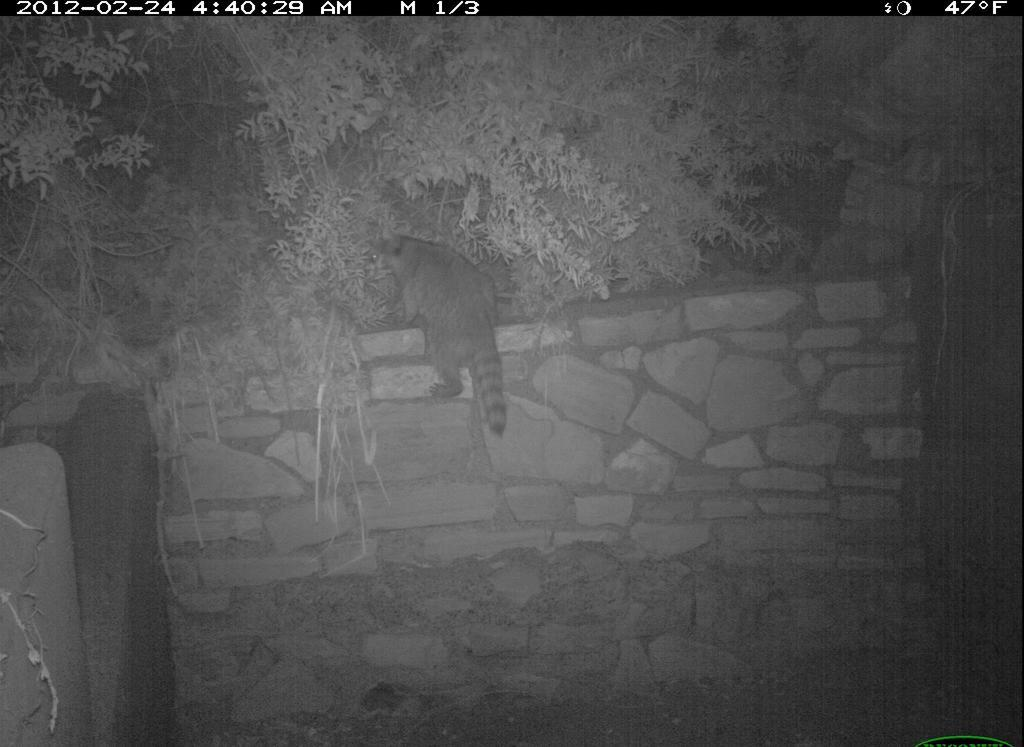raccoon: (359, 223, 519, 442)
